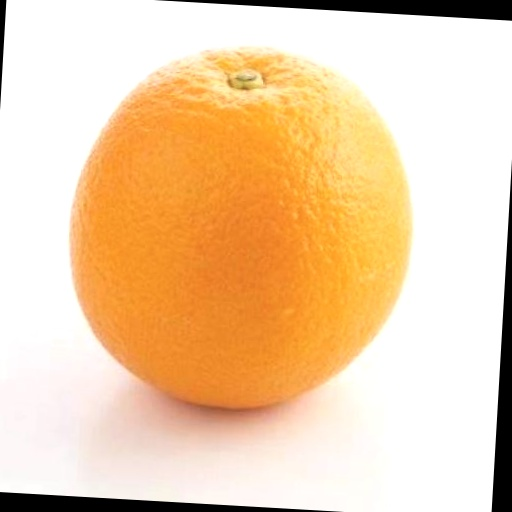fruit: (71, 47, 411, 408)
